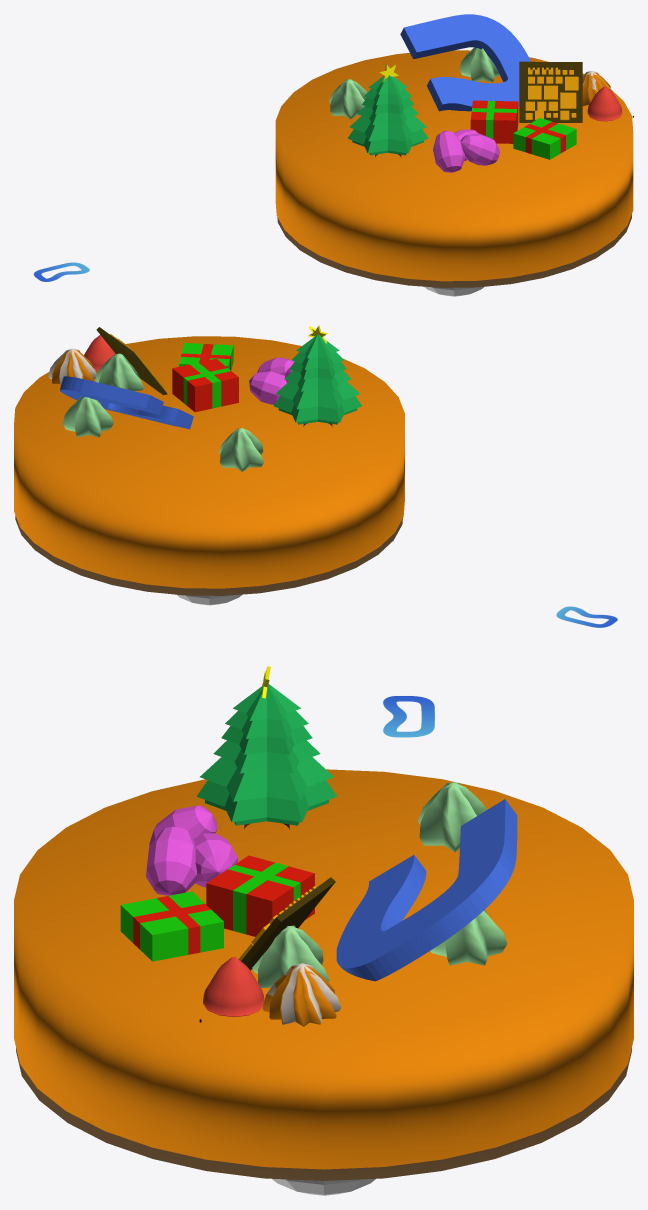
File: FOXXI_MC.glb
The picture shows the model from 3 angles, top to bottom: view 1: azimuth 30°, elevation 25°; view 2: azimuth 150°, elevation 25°; view 3: azimuth 270°, elevation 25°; orthographic projection. The views are drawn at different scales.
Parts seen in each view (by area): view 1: cake_main_cream, verse, Circle, Cube, suponji_bot, Cube.002, Cube.001, cream02.001, egg, egg2, cream02.003, ichigo.001 (+2 smaller); view 2: cake_main_cream, Circle, suponji_bot, verse, Cube.001, cream02.001, cream02.003, cream02.002, Cube.002, Cube, egg3, cream01.001 (+4 smaller); view 3: cake_main_cream, verse, Circle, suponji_bot, Cube.001, Cube.002, cream02.001, egg2, cream02.002, cream02.003, Cube, ichigo (+7 smaller).
Boxes of the visible parts, x1=… form: cake_main_cream: x1=275, y1=50, x2=633, y2=281; verse: x1=400, y1=14, x2=530, y2=111; Circle: x1=347, y1=75, x2=428, y2=157; Cube: x1=519, y1=61, x2=582, y2=122; suponji_bot: x1=277, y1=214, x2=631, y2=287; Cube.002: x1=513, y1=118, x2=576, y2=159; Cube.001: x1=470, y1=100, x2=518, y2=143; cream02.001: x1=329, y1=79, x2=367, y2=119; egg: x1=433, y1=130, x2=465, y2=172; egg2: x1=461, y1=133, x2=499, y2=165; cream02.003: x1=459, y1=47, x2=499, y2=82; ichigo.001: x1=587, y1=86, x2=622, y2=121; cake_main_cream: x1=14, y1=336, x2=404, y2=588; Circle: x1=273, y1=334, x2=361, y2=426; suponji_bot: x1=15, y1=515, x2=402, y2=595; verse: x1=59, y1=376, x2=193, y2=429; Cube.001: x1=172, y1=358, x2=238, y2=412; cream02.001: x1=219, y1=428, x2=263, y2=471; cream02.003: x1=62, y1=396, x2=113, y2=437; cream02.002: x1=95, y1=353, x2=143, y2=390; Cube.002: x1=179, y1=343, x2=233, y2=370; Cube: x1=96, y1=327, x2=167, y2=395; egg3: x1=249, y1=371, x2=286, y2=404; cream01.001: x1=48, y1=348, x2=96, y2=385; cake_main_cream: x1=14, y1=769, x2=633, y2=1169; verse: x1=336, y1=799, x2=517, y2=981; Circle: x1=196, y1=684, x2=337, y2=829; suponji_bot: x1=16, y1=1048, x2=631, y2=1180; Cube.001: x1=206, y1=855, x2=314, y2=936; Cube.002: x1=120, y1=891, x2=223, y2=961; cream02.001: x1=418, y1=782, x2=487, y2=852; egg2: x1=146, y1=826, x2=196, y2=895; cream02.002: x1=252, y1=925, x2=329, y2=987; cream02.003: x1=430, y1=910, x2=507, y2=965; Cube: x1=238, y1=877, x2=335, y2=970; ichigo: x1=219, y1=957, x2=264, y2=1016.
Bounding box in the file's own units: 12.11 × 5.42 × 6.76.
21 materials, 1 textured.
